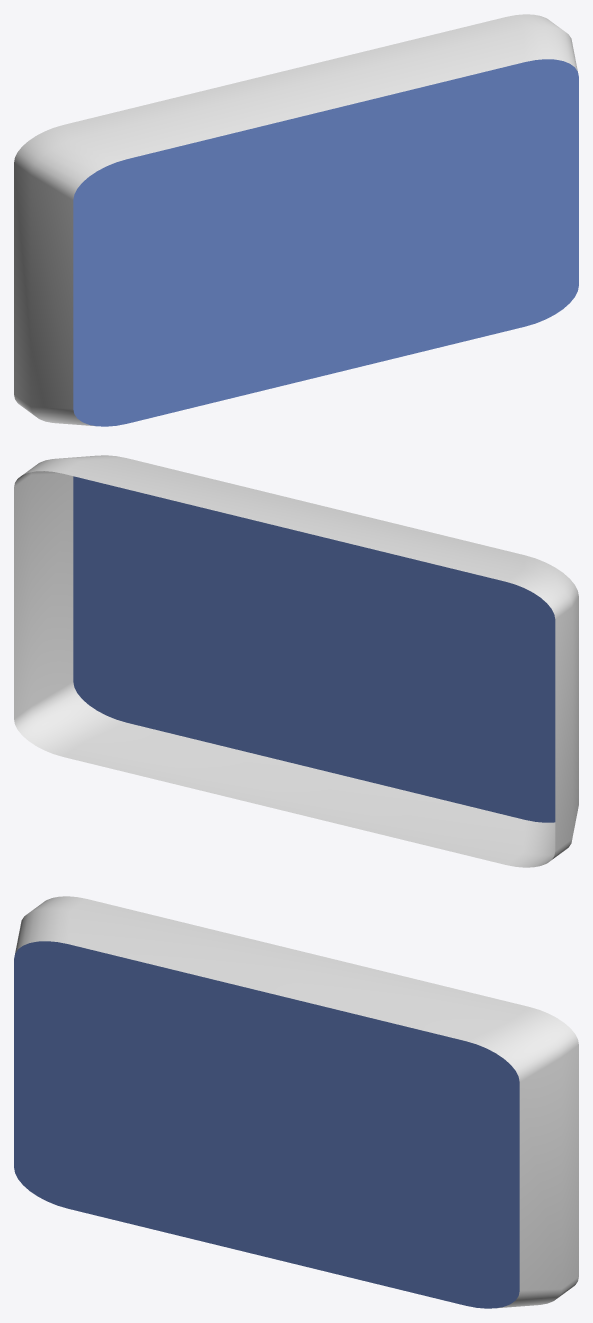
File: Mesh_Half_Tile 1.fbx
3 views of the same model, one above another, from view 1: azimuth 30°, elevation 25°; view 2: azimuth 150°, elevation 25°; view 3: azimuth 330°, elevation 25° (orthographic).
Visible parts, largest first — view 1: Cube.002; view 2: Cube.002; view 3: Cube.002.
Boxes of the visible parts, bbox=[...] form: Cube.002: bbox=[14, 14, 578, 426]; Cube.002: bbox=[14, 455, 578, 867]; Cube.002: bbox=[14, 896, 578, 1308].
Bounding box in the file's own units: 214 × 107 × 28.41.
